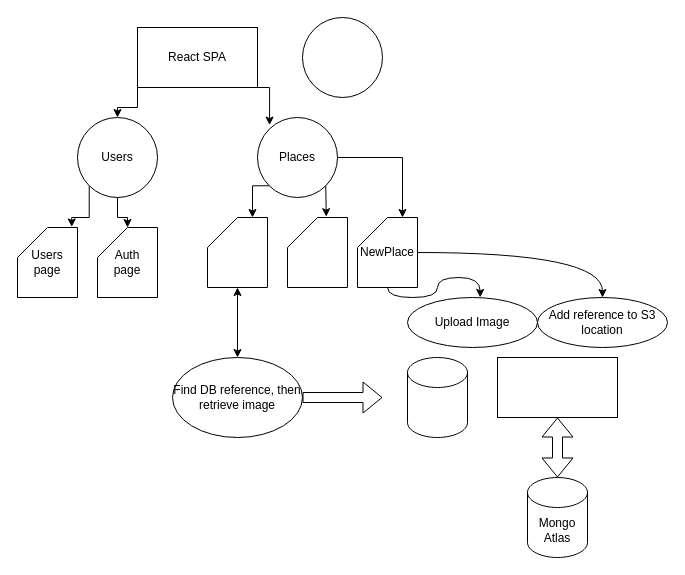
Some shapes in this 685 by 575 pixel diagram are drawn without their labels. The shapes that lost their labels are listed below. From the top down, each one's box as (x1, y1, x2, y2) in pixels, then its label:
(302, 16, 382, 98): shared
(206, 216, 268, 288): User Places
(286, 216, 348, 288): Update Place
(406, 356, 468, 438): AWS S3
(496, 356, 618, 418): Node REST API
